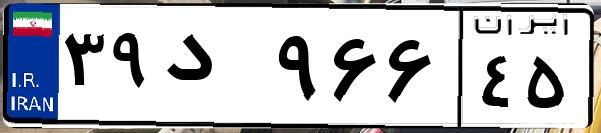3: (57, 26, 110, 100)
4: (475, 38, 525, 113)
5: (525, 38, 570, 115)
6: (385, 28, 445, 110), (330, 28, 385, 110)
9: (270, 28, 330, 110), (110, 28, 158, 98)
د: (158, 20, 270, 120)
